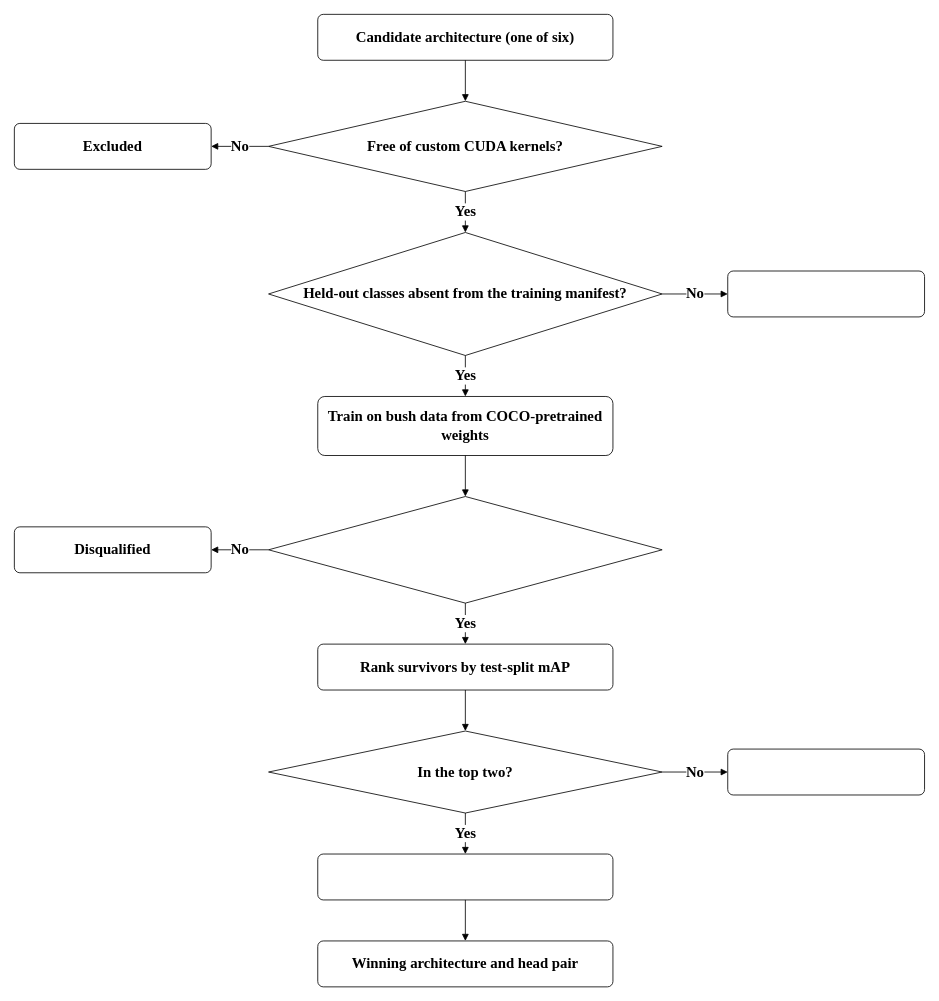
Image size: 939x1001. Some labels were removed from this diagram. Here are the shapes that lost their labels. From the top down, the box of each, then its label:
(727, 270, 925, 317): Stop and fix manifest
(268, 496, 662, 603): Meets Orin latency and memory budget?
(727, 748, 925, 795): Discarded
(317, 853, 613, 900): Head comparison: A0 versus A2
